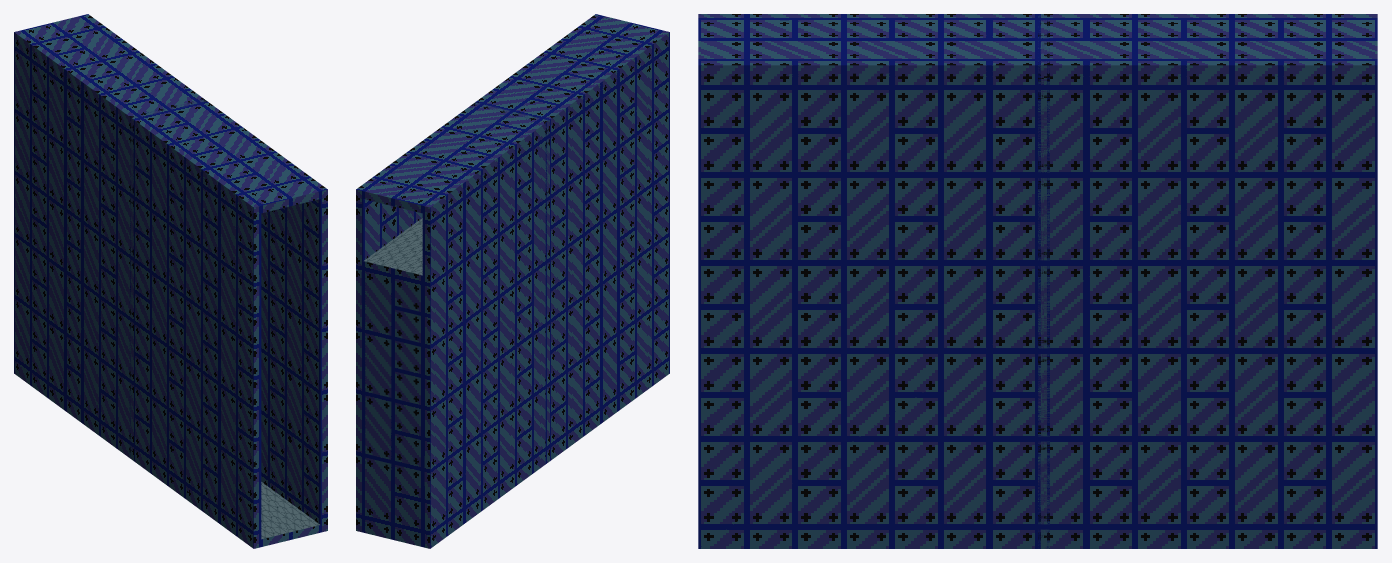
The picture shows the model from 3 angles, left to right: view 1: azimuth 30°, elevation 25°; view 2: azimuth 150°, elevation 25°; view 3: azimuth 270°, elevation 25°; orthographic projection. The views are drawn at different scales.
Visible parts, largest first — view 1: entity0_brush3, entity0_brush2, entity0_brush1, entity0_brush5, entity0_brush6; view 2: entity0_brush3, entity0_brush1, entity0_brush0, entity0_brush4, entity0_brush2, entity0_brush6; view 3: entity0_brush2, entity0_brush1, entity0_brush6.
Boxes of the visible parts, box(x1,y1,x2,y2) form: entity0_brush3: box(14, 40, 261, 548); entity0_brush2: box(261, 197, 327, 532); entity0_brush1: box(14, 14, 327, 214); entity0_brush5: box(261, 482, 320, 546); entity0_brush6: box(129, 98, 207, 460); entity0_brush3: box(422, 40, 669, 548); entity0_brush1: box(356, 14, 669, 214); entity0_brush0: box(363, 218, 422, 477); entity0_brush4: box(363, 278, 422, 546); entity0_brush2: box(356, 197, 422, 532); entity0_brush6: box(472, 102, 549, 463); entity0_brush2: box(698, 76, 1377, 548); entity0_brush1: box(698, 14, 1377, 76); entity0_brush6: box(1038, 15, 1049, 548).
Bounding box in the file's own units: 160 × 704 × 896.
